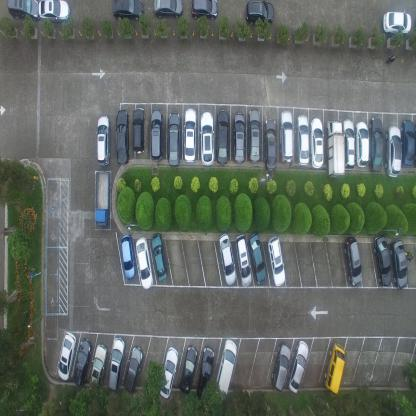car: (214, 338, 237, 398), (287, 338, 309, 394), (326, 117, 345, 179), (323, 342, 345, 395), (107, 336, 126, 392), (196, 346, 214, 405), (159, 345, 178, 400), (234, 232, 252, 288), (248, 231, 267, 284), (123, 344, 143, 394), (135, 235, 153, 290), (271, 343, 291, 392), (374, 233, 392, 287), (88, 342, 107, 393), (73, 337, 92, 388), (267, 234, 285, 287), (218, 232, 236, 285), (344, 235, 362, 287), (179, 345, 197, 396), (58, 331, 76, 382), (369, 114, 384, 174), (390, 238, 408, 288), (199, 110, 215, 166), (386, 124, 402, 179), (150, 233, 168, 281), (38, 0, 71, 26), (115, 108, 130, 165), (96, 114, 112, 167), (95, 171, 110, 227), (279, 110, 294, 164), (244, 0, 275, 26), (247, 108, 261, 164), (400, 118, 416, 167), (6, 0, 39, 23), (383, 8, 411, 35), (310, 116, 324, 169), (120, 234, 136, 280), (295, 114, 309, 166), (264, 117, 277, 172), (355, 120, 370, 167), (112, 0, 144, 22), (216, 110, 229, 164), (150, 108, 163, 161), (233, 111, 246, 164), (342, 118, 355, 171), (132, 106, 146, 154), (168, 110, 180, 166), (184, 107, 196, 163), (190, 0, 218, 23), (152, 0, 184, 20)
